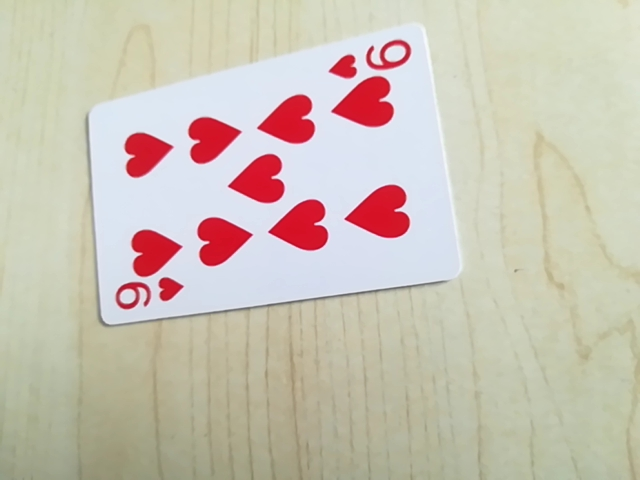hx 9: (327, 35, 414, 81), (110, 273, 185, 318)
